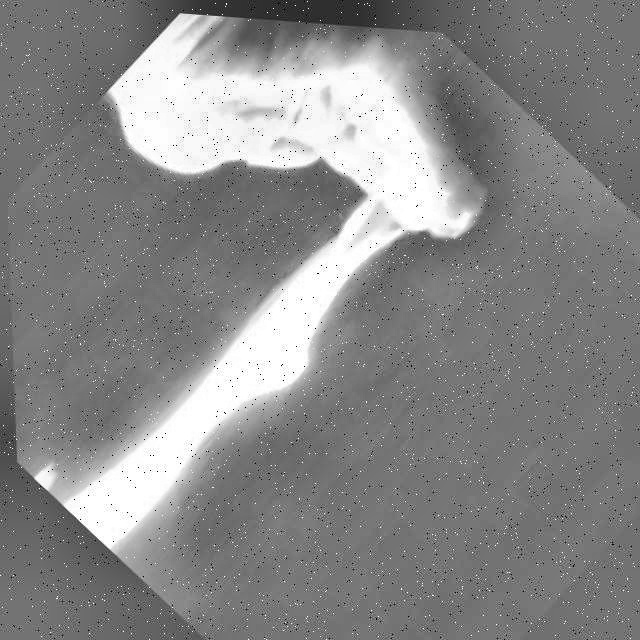Fire: (38, 118, 466, 586)
